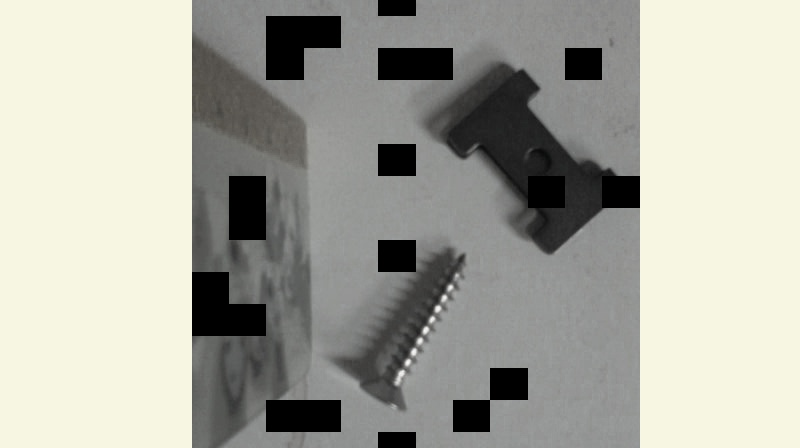O002: (441, 66, 628, 259)
S001: (351, 240, 470, 418)
